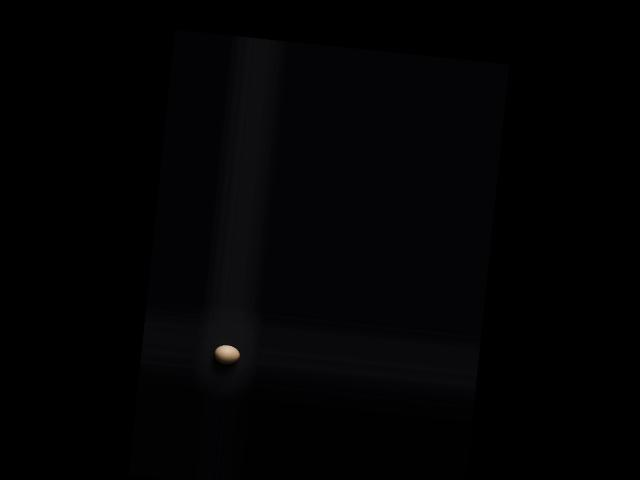egg: (212, 343, 241, 364)
